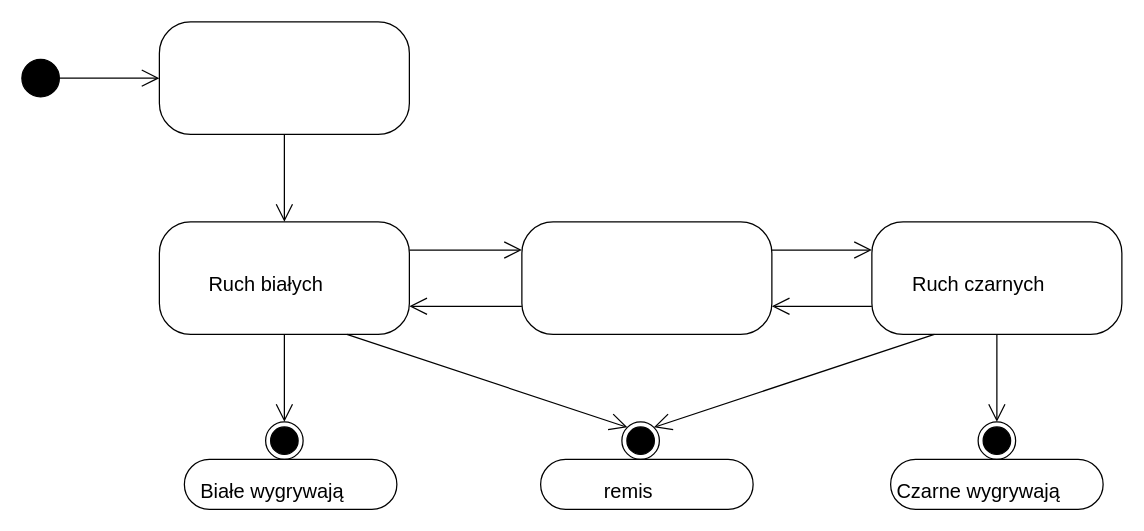
Image size: 1144x531. Some labels were removed from this diagram. Each missing label, with the box of its shape:
Czekanie na graczy: (158, 21, 409, 134)
dvdv: (264, 421, 303, 459)
Sprawdzanie stanu gry: (521, 221, 772, 334)
